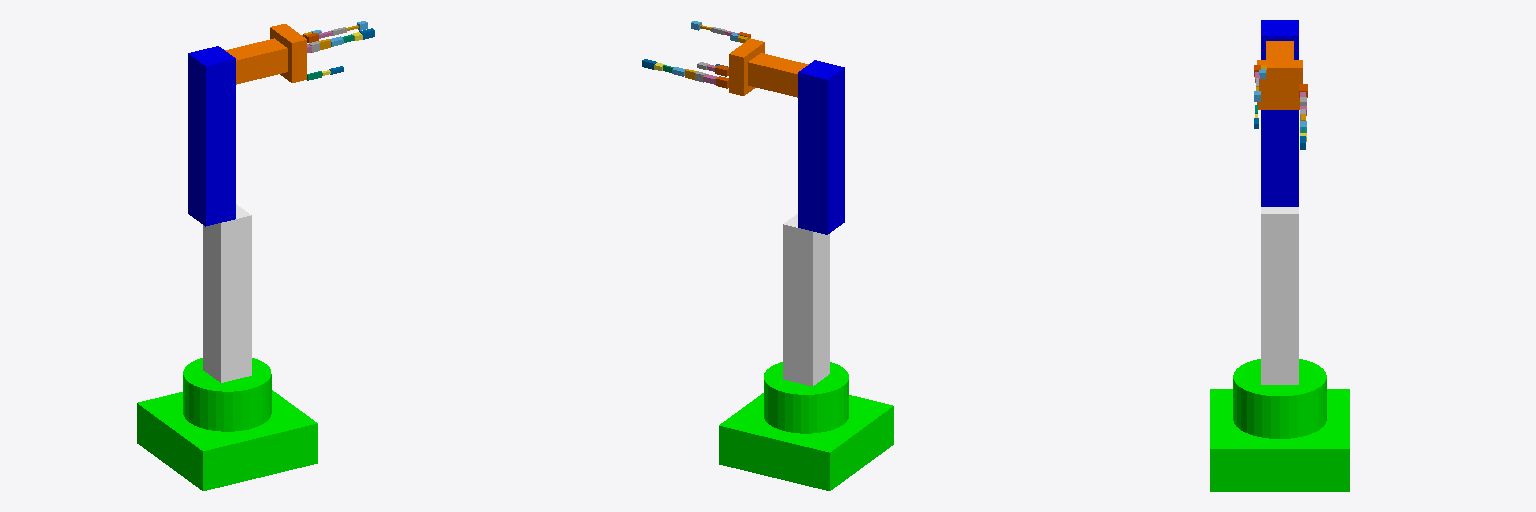
The robot description file, URDF, robot "robot":
<?xml version='1.0' encoding='utf-8'?>
<robot name="robot">
  <link name="base_link">
    <visual>
      <origin xyz="0 0 0.125" rpy="0 0 0" />
      <geometry>
        <box size="0.75 0.75 0.25" />
      </geometry>
      <material name="green" />
    </visual>
    <visual>
      <origin xyz="0 0 0.375" rpy="0 0 0" />
      <geometry>
        <cylinder length="0.25" radius="0.25" />
      </geometry>
      <material name="green">
        <color rgba="0 1 0 1" />
      </material>
    </visual>
    <collision>
      <geometry>
        <box size="0.75 0.75 0.5" />
      </geometry>
    </collision>
    <inertial>
      <mass value="0.5" />
      <inertia ixx="0.034" ixy="0.0" ixz="0.0" iyy="0.034" iyz="0.0" izz="0.034" />
    </inertial>
  </link>
  <link name="support_link">
    <visual>
      <origin xyz="0 0 0.5" rpy="0 0 0" />
      <geometry>
        <box size="0.2 0.2 1" />
      </geometry>
      <material name="white">
        <color rgba="1 1 1 1" />
      </material>
    </visual>
    <collision>
      <geometry>
        <box size="0.2 0.2 1" />
      </geometry>
    </collision>
    <inertial>
      <mass value="0.1" />
      <inertia ixx="0.01" ixy="0.0" ixz="0.0" iyy="0.01" iyz="0.0" izz="0.01" />
    </inertial>
  </link>
  <joint name="support_joint" type="continuous">
    <origin xyz="0 0 0.5" rpy="0 0 0" />
    <parent link="base_link" />
    <child link="support_link" />
    <axis xyz="0 0 1" />
  </joint>
  <link name="arm_link">
    <visual>
      <origin xyz="0 0 0.5" rpy="0 0 0" />
      <geometry>
        <box size="0.2 0.2 1" />
      </geometry>
      <material name="blue">
        <color rgba="0 0 1 1" />
      </material>
    </visual>
    <collision>
      <geometry>
        <box size="0.2 0.2 1" />
      </geometry>
    </collision>
    <inertial>
      <mass value="0.1" />
      <inertia ixx="0.01" ixy="0.0" ixz="0.0" iyy="0.01" iyz="0.0" izz="0.01" />
    </inertial>
  </link>
  <joint name="arm_joint" type="revolute">
    <origin xyz="-0.1 0 1" rpy="0 0 0" />
    <parent link="support_link" />
    <child link="arm_link" />
    <axis xyz="0 1 0" />
    <limit lower="-3.14" upper="3.14" effort="1.0" velocity="1.0" />
  </joint>
  <link name="wrist_link">
    <visual>
      <origin xyz="0 0 0.25" rpy="0 0 0" />
      <geometry>
        <box size="0.15 0.15 0.5" />
      </geometry>
      <material name="orange">
        <color rgba="1 0.5 0 1" />
      </material>
    </visual>
    <collision>
      <geometry>
        <box size="0.15 0.15 0.5" />
      </geometry>
    </collision>
    <inertial>
      <mass value="0.1" />
      <inertia ixx="0.01" ixy="0.0" ixz="0.0" iyy="0.01" iyz="0.0" izz="0.01" />
    </inertial>
  </link>
  <joint name="wrist_joint" type="fixed">
    <origin xyz="0 0 0.9" rpy="0 1.571 0" />
    <parent link="arm_link" />
    <child link="wrist_link" />
  </joint>
  <link name="palm_link">
    <visual>
      <origin xyz="0 0 0.05" rpy="0 0 0" />
      <geometry>
        <box size="0.25 0.25 0.1" />
      </geometry>
      <material name="orange" />
    </visual>
    <collision>
      <geometry>
        <box size="0.25 0.25 0.1" />
      </geometry>
    </collision>
    <inertial>
      <mass value="0.1" />
      <inertia ixx="0.01" ixy="0.0" ixz="0.0" iyy="0.01" iyz="0.0" izz="0.01" />
    </inertial>
  </link>
  <joint name="palm_joint" type="fixed">
    <origin xyz="0 0 0.45" rpy="0 0 0" />
    <parent link="wrist_link" />
    <child link="palm_link" />
  </joint>
  <link name="finger_link_0_0">
    <visual>
      <origin xyz="0 0 0.0355" rpy="0 0 0" />
      <geometry>
        <box size="0.037 0.036 0.071" />
      </geometry>
    </visual>
    <collision>
      <geometry>
        <box size="0.037 0.036 0.071" />
      </geometry>
    </collision>
    <inertial>
      <mass value="0.028" />
      <inertia ixx="0.001" iyy="0.001" izz="0.001" ixy="0" ixz="0" iyz="0" />
    </inertial>
  </link>
  <joint name="finger_joint_palm_link_to_finger_link_0_0" type="revolute">
    <origin xyz="-0.125 -0.12 0.1" rpy="0 0 0" />
    <parent link="palm_link" />
    <child link="finger_link_0_0" />
    <axis xyz="0.0 -1.0 0.0" />
    <limit lower="-3.142" upper="3.142" effort="10" velocity="10" />
  </joint>
  <link name="finger_link_0_1">
    <visual>
      <origin xyz="0 0 0.046" rpy="0 0 0" />
      <geometry>
        <box size="0.021 0.022 0.092" />
      </geometry>
    </visual>
    <collision>
      <geometry>
        <box size="0.021 0.022 0.092" />
      </geometry>
    </collision>
    <inertial>
      <mass value="0.013" />
      <inertia ixx="0.001" iyy="0.001" izz="0.001" ixy="0" ixz="0" iyz="0" />
    </inertial>
  </link>
  <joint name="finger_joint_finger_link_0_0_to_finger_link_0_1" type="revolute">
    <origin xyz="0.0 0.0 0.071" rpy="0 0 0" />
    <parent link="finger_link_0_0" />
    <child link="finger_link_0_1" />
    <axis xyz="0.0 -1.0 0.0" />
    <limit lower="-3.142" upper="3.142" effort="10" velocity="10" />
  </joint>
  <link name="finger_link_0_2">
    <visual>
      <origin xyz="0 0 0.047" rpy="0 0 0" />
      <geometry>
        <box size="0.028 0.019 0.094" />
      </geometry>
    </visual>
    <collision>
      <geometry>
        <box size="0.028 0.019 0.094" />
      </geometry>
    </collision>
    <inertial>
      <mass value="0.015" />
      <inertia ixx="0.001" iyy="0.001" izz="0.001" ixy="0" ixz="0" iyz="0" />
    </inertial>
  </link>
  <joint name="finger_joint_finger_link_0_1_to_finger_link_0_2" type="revolute">
    <origin xyz="0.0 0.0 0.092" rpy="0 0 0" />
    <parent link="finger_link_0_1" />
    <child link="finger_link_0_2" />
    <axis xyz="0.0 -1.0 0.0" />
    <limit lower="-3.142" upper="3.142" effort="10" velocity="10" />
  </joint>
  <link name="finger_link_0_3">
    <visual>
      <origin xyz="0 0 0.039" rpy="0 0 0" />
      <geometry>
        <box size="0.013 0.016 0.078" />
      </geometry>
    </visual>
    <collision>
      <geometry>
        <box size="0.013 0.016 0.078" />
      </geometry>
    </collision>
    <inertial>
      <mass value="0.005" />
      <inertia ixx="0.001" iyy="0.001" izz="0.001" ixy="0" ixz="0" iyz="0" />
    </inertial>
  </link>
  <joint name="finger_joint_finger_link_0_2_to_finger_link_0_3" type="revolute">
    <origin xyz="0.0 0.0 0.094" rpy="0 0 0" />
    <parent link="finger_link_0_2" />
    <child link="finger_link_0_3" />
    <axis xyz="0.0 -1.0 0.0" />
    <limit lower="-3.142" upper="3.142" effort="10" velocity="10" />
  </joint>
  <link name="finger_link_0_4">
    <visual>
      <origin xyz="0 0 0.0265" rpy="0 0 0" />
      <geometry>
        <box size="0.039 0.035 0.053" />
      </geometry>
    </visual>
    <collision>
      <geometry>
        <box size="0.039 0.035 0.053" />
      </geometry>
    </collision>
    <inertial>
      <mass value="0.022" />
      <inertia ixx="0.001" iyy="0.001" izz="0.001" ixy="0" ixz="0" iyz="0" />
    </inertial>
  </link>
  <joint name="finger_joint_finger_link_0_3_to_finger_link_0_4" type="revolute">
    <origin xyz="0.0 0.0 0.078" rpy="0 0 0" />
    <parent link="finger_link_0_3" />
    <child link="finger_link_0_4" />
    <axis xyz="0.0 -1.0 0.0" />
    <limit lower="-3.142" upper="3.142" effort="10" velocity="10" />
  </joint>
  <link name="finger_link_1_0">
    <visual>
      <origin xyz="0 0 0.0475" rpy="0 0 0" />
      <geometry>
        <box size="0.037 0.011 0.095" />
      </geometry>
    </visual>
    <collision>
      <geometry>
        <box size="0.037 0.011 0.095" />
      </geometry>
    </collision>
    <inertial>
      <mass value="0.012" />
      <inertia ixx="0.001" iyy="0.001" izz="0.001" ixy="0" ixz="0" iyz="0" />
    </inertial>
  </link>
  <joint name="finger_joint_palm_link_to_finger_link_1_0" type="revolute">
    <origin xyz="0.112 -0.125 0.1" rpy="0 0 0" />
    <parent link="palm_link" />
    <child link="finger_link_1_0" />
    <axis xyz="1.0 0.0 0.0" />
    <limit lower="-3.142" upper="3.142" effort="10" velocity="10" />
  </joint>
  <link name="finger_link_1_1">
    <visual>
      <origin xyz="0 0 0.026" rpy="0 0 0" />
      <geometry>
        <box size="0.017 0.019 0.052" />
      </geometry>
    </visual>
    <collision>
      <geometry>
        <box size="0.017 0.019 0.052" />
      </geometry>
    </collision>
    <inertial>
      <mass value="0.005" />
      <inertia ixx="0.001" iyy="0.001" izz="0.001" ixy="0" ixz="0" iyz="0" />
    </inertial>
  </link>
  <joint name="finger_joint_finger_link_1_0_to_finger_link_1_1" type="revolute">
    <origin xyz="0.0 0.0 0.095" rpy="0 0 0" />
    <parent link="finger_link_1_0" />
    <child link="finger_link_1_1" />
    <axis xyz="1.0 0.0 0.0" />
    <limit lower="-3.142" upper="3.142" effort="10" velocity="10" />
  </joint>
  <link name="finger_link_1_2">
    <visual>
      <origin xyz="0 0 0.0425" rpy="0 0 0" />
      <geometry>
        <box size="0.026 0.026 0.085" />
      </geometry>
    </visual>
    <collision>
      <geometry>
        <box size="0.026 0.026 0.085" />
      </geometry>
    </collision>
    <inertial>
      <mass value="0.017" />
      <inertia ixx="0.001" iyy="0.001" izz="0.001" ixy="0" ixz="0" iyz="0" />
    </inertial>
  </link>
  <joint name="finger_joint_finger_link_1_1_to_finger_link_1_2" type="revolute">
    <origin xyz="0.0 0.0 0.052" rpy="0 0 0" />
    <parent link="finger_link_1_1" />
    <child link="finger_link_1_2" />
    <axis xyz="1.0 0.0 0.0" />
    <limit lower="-3.142" upper="3.142" effort="10" velocity="10" />
  </joint>
  <link name="finger_link_2_0">
    <visual>
      <origin xyz="0 0 0.038" rpy="0 0 0" />
      <geometry>
        <box size="0.049 0.04 0.076" />
      </geometry>
    </visual>
    <collision>
      <geometry>
        <box size="0.049 0.04 0.076" />
      </geometry>
    </collision>
    <inertial>
      <mass value="0.045" />
      <inertia ixx="0.001" iyy="0.001" izz="0.001" ixy="0" ixz="0" iyz="0" />
    </inertial>
  </link>
  <joint name="finger_joint_palm_link_to_finger_link_2_0" type="revolute">
    <origin xyz="0.067 0.125 0.1" rpy="0 0 0" />
    <parent link="palm_link" />
    <child link="finger_link_2_0" />
    <axis xyz="-1.0 0.0 0.0" />
    <limit lower="-3.142" upper="3.142" effort="10" velocity="10" />
  </joint>
  <link name="finger_link_2_1">
    <visual>
      <origin xyz="0 0 0.043" rpy="0 0 0" />
      <geometry>
        <box size="0.035 0.04 0.086" />
      </geometry>
    </visual>
    <collision>
      <geometry>
        <box size="0.035 0.04 0.086" />
      </geometry>
    </collision>
    <inertial>
      <mass value="0.036" />
      <inertia ixx="0.001" iyy="0.001" izz="0.001" ixy="0" ixz="0" iyz="0" />
    </inertial>
  </link>
  <joint name="finger_joint_finger_link_2_0_to_finger_link_2_1" type="revolute">
    <origin xyz="0.0 0.0 0.076" rpy="0 0 0" />
    <parent link="finger_link_2_0" />
    <child link="finger_link_2_1" />
    <axis xyz="-1.0 0.0 0.0" />
    <limit lower="-3.142" upper="3.142" effort="10" velocity="10" />
  </joint>
  <link name="finger_link_2_2">
    <visual>
      <origin xyz="0 0 0.029" rpy="0 0 0" />
      <geometry>
        <box size="0.048 0.032 0.058" />
      </geometry>
    </visual>
    <collision>
      <geometry>
        <box size="0.048 0.032 0.058" />
      </geometry>
    </collision>
    <inertial>
      <mass value="0.027" />
      <inertia ixx="0.001" iyy="0.001" izz="0.001" ixy="0" ixz="0" iyz="0" />
    </inertial>
  </link>
  <joint name="finger_joint_finger_link_2_1_to_finger_link_2_2" type="revolute">
    <origin xyz="0.0 0.0 0.086" rpy="0 0 0" />
    <parent link="finger_link_2_1" />
    <child link="finger_link_2_2" />
    <axis xyz="-1.0 0.0 0.0" />
    <limit lower="-3.142" upper="3.142" effort="10" velocity="10" />
  </joint>
  <link name="finger_link_2_3">
    <visual>
      <origin xyz="0 0 0.0365" rpy="0 0 0" />
      <geometry>
        <box size="0.048 0.023 0.073" />
      </geometry>
    </visual>
    <collision>
      <geometry>
        <box size="0.048 0.023 0.073" />
      </geometry>
    </collision>
    <inertial>
      <mass value="0.024" />
      <inertia ixx="0.001" iyy="0.001" izz="0.001" ixy="0" ixz="0" iyz="0" />
    </inertial>
  </link>
  <joint name="finger_joint_finger_link_2_2_to_finger_link_2_3" type="revolute">
    <origin xyz="0.0 0.0 0.058" rpy="0 0 0" />
    <parent link="finger_link_2_2" />
    <child link="finger_link_2_3" />
    <axis xyz="-1.0 0.0 0.0" />
    <limit lower="-3.142" upper="3.142" effort="10" velocity="10" />
  </joint>
  <link name="finger_link_2_4">
    <visual>
      <origin xyz="0 0 0.04" rpy="0 0 0" />
      <geometry>
        <box size="0.031 0.041 0.08" />
      </geometry>
    </visual>
    <collision>
      <geometry>
        <box size="0.031 0.041 0.08" />
      </geometry>
    </collision>
    <inertial>
      <mass value="0.031" />
      <inertia ixx="0.001" iyy="0.001" izz="0.001" ixy="0" ixz="0" iyz="0" />
    </inertial>
  </link>
  <joint name="finger_joint_finger_link_2_3_to_finger_link_2_4" type="revolute">
    <origin xyz="0.0 0.0 0.073" rpy="0 0 0" />
    <parent link="finger_link_2_3" />
    <child link="finger_link_2_4" />
    <axis xyz="-1.0 0.0 0.0" />
    <limit lower="-3.142" upper="3.142" effort="10" velocity="10" />
  </joint>
  <link name="finger_link_2_5">
    <visual>
      <origin xyz="0 0 0.0345" rpy="0 0 0" />
      <geometry>
        <box size="0.033 0.017 0.069" />
      </geometry>
    </visual>
    <collision>
      <geometry>
        <box size="0.033 0.017 0.069" />
      </geometry>
    </collision>
    <inertial>
      <mass value="0.012" />
      <inertia ixx="0.001" iyy="0.001" izz="0.001" ixy="0" ixz="0" iyz="0" />
    </inertial>
  </link>
  <joint name="finger_joint_finger_link_2_4_to_finger_link_2_5" type="revolute">
    <origin xyz="0.0 0.0 0.08" rpy="0 0 0" />
    <parent link="finger_link_2_4" />
    <child link="finger_link_2_5" />
    <axis xyz="-1.0 0.0 0.0" />
    <limit lower="-3.142" upper="3.142" effort="10" velocity="10" />
  </joint>
  <link name="finger_link_2_6">
    <visual>
      <origin xyz="0 0 0.0255" rpy="0 0 0" />
      <geometry>
        <box size="0.03 0.042 0.051" />
      </geometry>
    </visual>
    <collision>
      <geometry>
        <box size="0.03 0.042 0.051" />
      </geometry>
    </collision>
    <inertial>
      <mass value="0.019" />
      <inertia ixx="0.001" iyy="0.001" izz="0.001" ixy="0" ixz="0" iyz="0" />
    </inertial>
  </link>
  <joint name="finger_joint_finger_link_2_5_to_finger_link_2_6" type="revolute">
    <origin xyz="0.0 0.0 0.069" rpy="0 0 0" />
    <parent link="finger_link_2_5" />
    <child link="finger_link_2_6" />
    <axis xyz="-1.0 0.0 0.0" />
    <limit lower="-3.142" upper="3.142" effort="10" velocity="10" />
  </joint>
  <link name="finger_link_2_7">
    <visual>
      <origin xyz="0 0 0.0425" rpy="0 0 0" />
      <geometry>
        <box size="0.041 0.032 0.085" />
      </geometry>
    </visual>
    <collision>
      <geometry>
        <box size="0.041 0.032 0.085" />
      </geometry>
    </collision>
    <inertial>
      <mass value="0.033" />
      <inertia ixx="0.001" iyy="0.001" izz="0.001" ixy="0" ixz="0" iyz="0" />
    </inertial>
  </link>
  <joint name="finger_joint_finger_link_2_6_to_finger_link_2_7" type="revolute">
    <origin xyz="0.0 0.0 0.051" rpy="0 0 0" />
    <parent link="finger_link_2_6" />
    <child link="finger_link_2_7" />
    <axis xyz="-1.0 0.0 0.0" />
    <limit lower="-3.142" upper="3.142" effort="10" velocity="10" />
  </joint>
  <link name="finger_link_3_0">
    <visual>
      <origin xyz="0 0 0.0405" rpy="0 0 0" />
      <geometry>
        <box size="0.041 0.049 0.081" />
      </geometry>
    </visual>
    <collision>
      <geometry>
        <box size="0.041 0.049 0.081" />
      </geometry>
    </collision>
    <inertial>
      <mass value="0.049" />
      <inertia ixx="0.001" iyy="0.001" izz="0.001" ixy="0" ixz="0" iyz="0" />
    </inertial>
  </link>
  <joint name="finger_joint_palm_link_to_finger_link_3_0" type="revolute">
    <origin xyz="-0.008 0.125 0.1" rpy="0 0 0" />
    <parent link="palm_link" />
    <child link="finger_link_3_0" />
    <axis xyz="-1.0 0.0 0.0" />
    <limit lower="-3.142" upper="3.142" effort="10" velocity="10" />
  </joint>
  <link name="finger_link_3_1">
    <visual>
      <origin xyz="0 0 0.0305" rpy="0 0 0" />
      <geometry>
        <box size="0.023 0.032 0.061" />
      </geometry>
    </visual>
    <collision>
      <geometry>
        <box size="0.023 0.032 0.061" />
      </geometry>
    </collision>
    <inertial>
      <mass value="0.013" />
      <inertia ixx="0.001" iyy="0.001" izz="0.001" ixy="0" ixz="0" iyz="0" />
    </inertial>
  </link>
  <joint name="finger_joint_finger_link_3_0_to_finger_link_3_1" type="revolute">
    <origin xyz="0.0 0.0 0.081" rpy="0 0 0" />
    <parent link="finger_link_3_0" />
    <child link="finger_link_3_1" />
    <axis xyz="-1.0 0.0 0.0" />
    <limit lower="-3.142" upper="3.142" effort="10" velocity="10" />
  </joint>
  <link name="finger_link_3_2">
    <visual>
      <origin xyz="0 0 0.0295" rpy="0 0 0" />
      <geometry>
        <box size="0.025 0.039 0.059" />
      </geometry>
    </visual>
    <collision>
      <geometry>
        <box size="0.025 0.039 0.059" />
      </geometry>
    </collision>
    <inertial>
      <mass value="0.017" />
      <inertia ixx="0.001" iyy="0.001" izz="0.001" ixy="0" ixz="0" iyz="0" />
    </inertial>
  </link>
  <joint name="finger_joint_finger_link_3_1_to_finger_link_3_2" type="revolute">
    <origin xyz="0.0 0.0 0.061" rpy="0 0 0" />
    <parent link="finger_link_3_1" />
    <child link="finger_link_3_2" />
    <axis xyz="-1.0 0.0 0.0" />
    <limit lower="-3.142" upper="3.142" effort="10" velocity="10" />
  </joint>
  <link name="finger_link_4_0">
    <visual>
      <origin xyz="0 0 0.027" rpy="0 0 0" />
      <geometry>
        <box size="0.028 0.046 0.054" />
      </geometry>
    </visual>
    <collision>
      <geometry>
        <box size="0.028 0.046 0.054" />
      </geometry>
    </collision>
    <inertial>
      <mass value="0.021" />
      <inertia ixx="0.001" iyy="0.001" izz="0.001" ixy="0" ixz="0" iyz="0" />
    </inertial>
  </link>
  <joint name="finger_joint_palm_link_to_finger_link_4_0" type="revolute">
    <origin xyz="-0.125 -0.093 0.1" rpy="0 0 0" />
    <parent link="palm_link" />
    <child link="finger_link_4_0" />
    <axis xyz="0.0 -1.0 0.0" />
    <limit lower="-3.142" upper="3.142" effort="10" velocity="10" />
  </joint>
  <link name="finger_link_4_1">
    <visual>
      <origin xyz="0 0 0.0265" rpy="0 0 0" />
      <geometry>
        <box size="0.036 0.034 0.053" />
      </geometry>
    </visual>
    <collision>
      <geometry>
        <box size="0.036 0.034 0.053" />
      </geometry>
    </collision>
    <inertial>
      <mass value="0.019" />
      <inertia ixx="0.001" iyy="0.001" izz="0.001" ixy="0" ixz="0" iyz="0" />
    </inertial>
  </link>
  <joint name="finger_joint_finger_link_4_0_to_finger_link_4_1" type="revolute">
    <origin xyz="0.0 0.0 0.054" rpy="0 0 0" />
    <parent link="finger_link_4_0" />
    <child link="finger_link_4_1" />
    <axis xyz="0.0 -1.0 0.0" />
    <limit lower="-3.142" upper="3.142" effort="10" velocity="10" />
  </joint>
</robot>

--- What the picture shows (computed from the rendered views, not written in the file) ---
The picture shows the robot from 3 angles, left to right: view 1: azimuth 30°, elevation 25°; view 2: azimuth 150°, elevation 25°; view 3: azimuth 270°, elevation 25°; orthographic projection.
Robot: robot — 26 links, 25 joints (22 revolute, 1 continuous, 2 fixed); root link base_link; default pose: all joints at 0.
Visible links, largest first — view 1: base_link, arm_link, support_link, wrist_link, palm_link; view 2: base_link, arm_link, support_link, wrist_link, palm_link; view 3: base_link, support_link, arm_link, palm_link, wrist_link.
Link boxes in pixels (left/top/right/bottom): base_link: left=137, top=358, right=317, bottom=490; arm_link: left=188, top=46, right=235, bottom=226; support_link: left=203, top=204, right=251, bottom=382; wrist_link: left=225, top=38, right=287, bottom=84; palm_link: left=270, top=24, right=306, bottom=82; base_link: left=719, top=362, right=893, bottom=490; arm_link: left=798, top=60, right=844, bottom=234; support_link: left=783, top=214, right=829, bottom=386; wrist_link: left=748, top=53, right=808, bottom=97; palm_link: left=729, top=38, right=764, bottom=95; base_link: left=1210, top=359, right=1349, bottom=491; support_link: left=1261, top=207, right=1298, bottom=384; arm_link: left=1261, top=20, right=1298, bottom=206; palm_link: left=1257, top=60, right=1302, bottom=109; wrist_link: left=1266, top=41, right=1293, bottom=59.
Size in the robot's own frame: 1.4 by 0.75 by 2.54 metres.
Geometry: primitives only (box / cylinder / sphere), no mesh files.